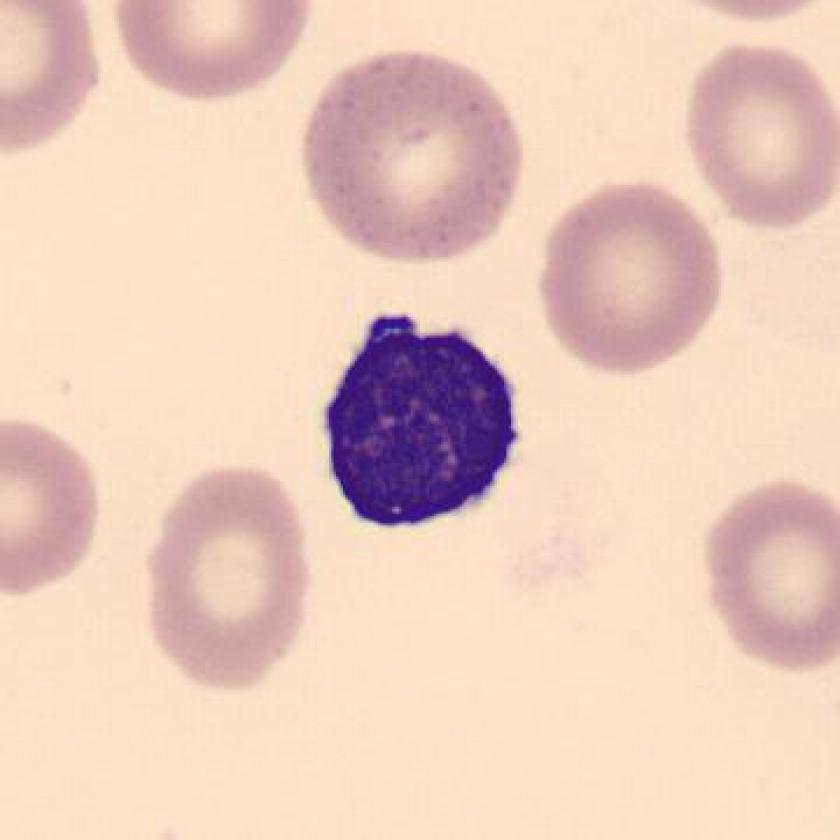lymphocyte: (311, 295, 538, 556)
